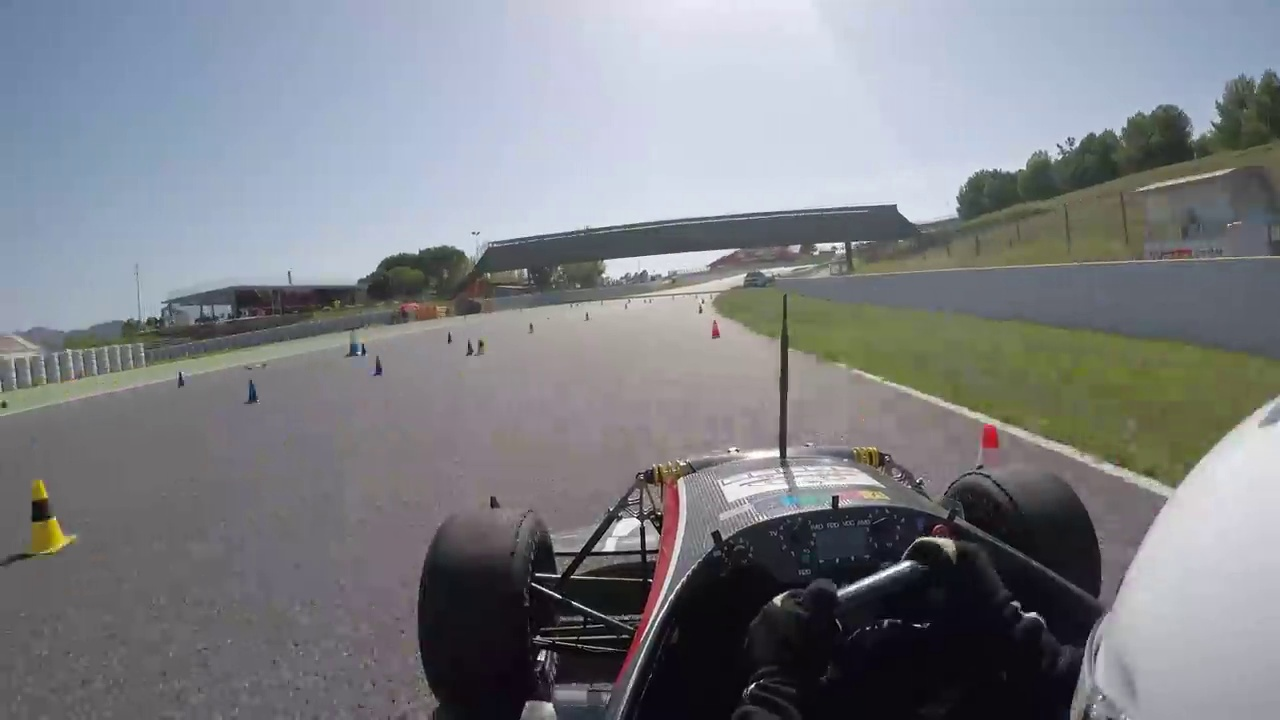Cone: (18, 479, 73, 554)
